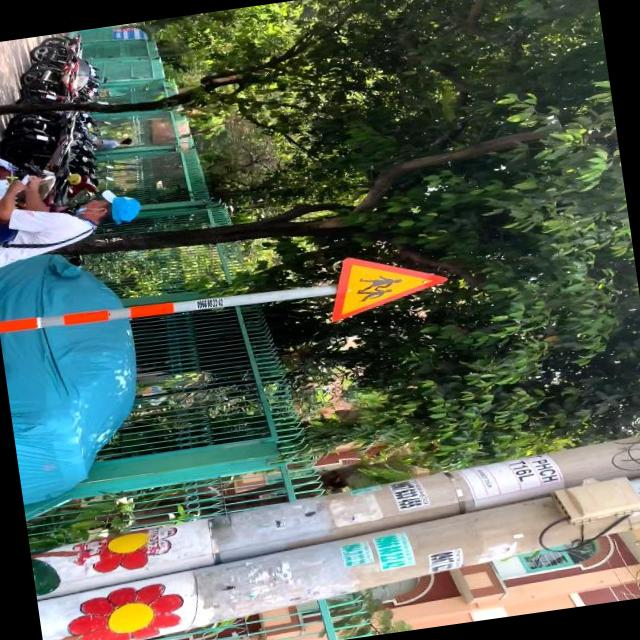W-225: (320, 243, 452, 324)
